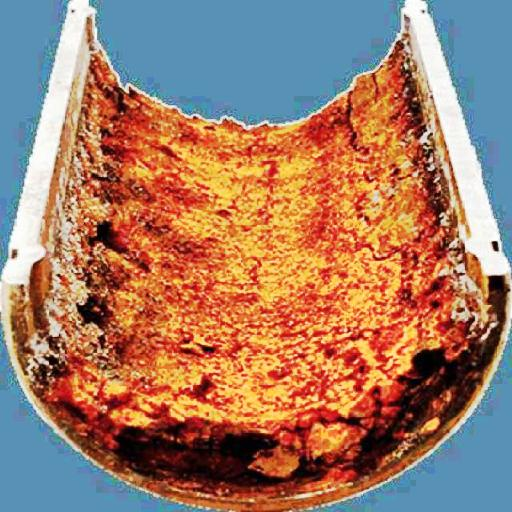corrosion: (74, 67, 450, 498)
